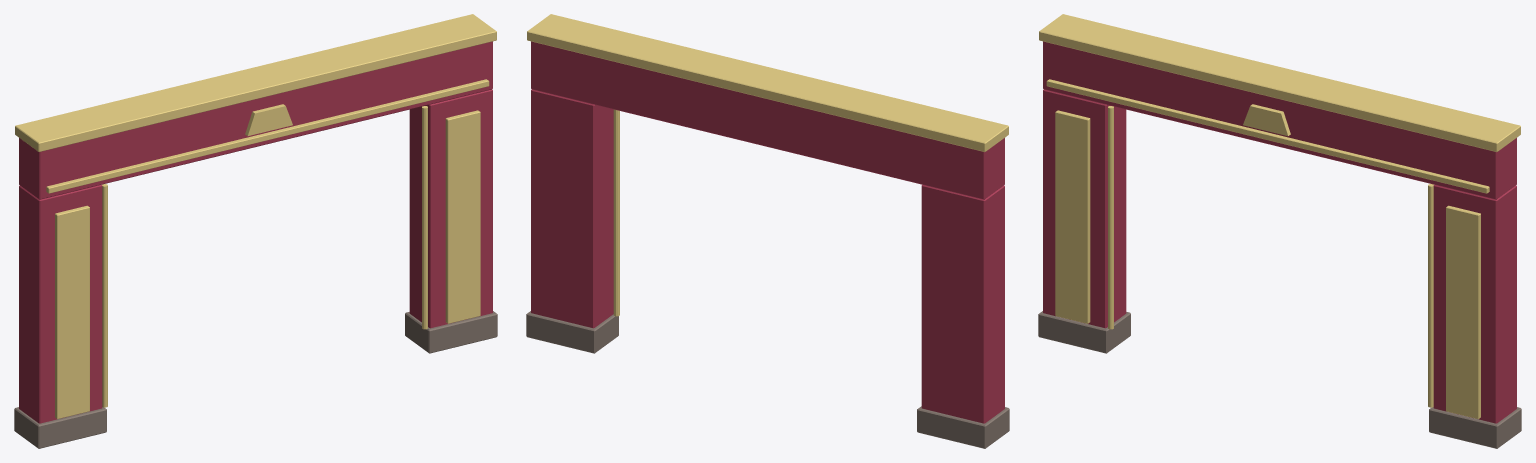
Rendered from theatre-stage-and-backstage-proscenium-arch-frame-f9dcb7bb.glb.
3 renders of one model, left to right at view 1: azimuth 30°, elevation 25°; view 2: azimuth 150°, elevation 25°; view 3: azimuth 330°, elevation 25°, orthographic.
Parts seen in each view (by area): view 1: proscenium-arch-frame; view 2: proscenium-arch-frame; view 3: proscenium-arch-frame.
Boxes of the visible parts, bbox=[...] form: proscenium-arch-frame: bbox=[14, 14, 497, 448]; proscenium-arch-frame: bbox=[526, 14, 1009, 448]; proscenium-arch-frame: bbox=[1038, 14, 1521, 448].
Bounding box in the file's own units: 10.12 × 6.44 × 1.02.
